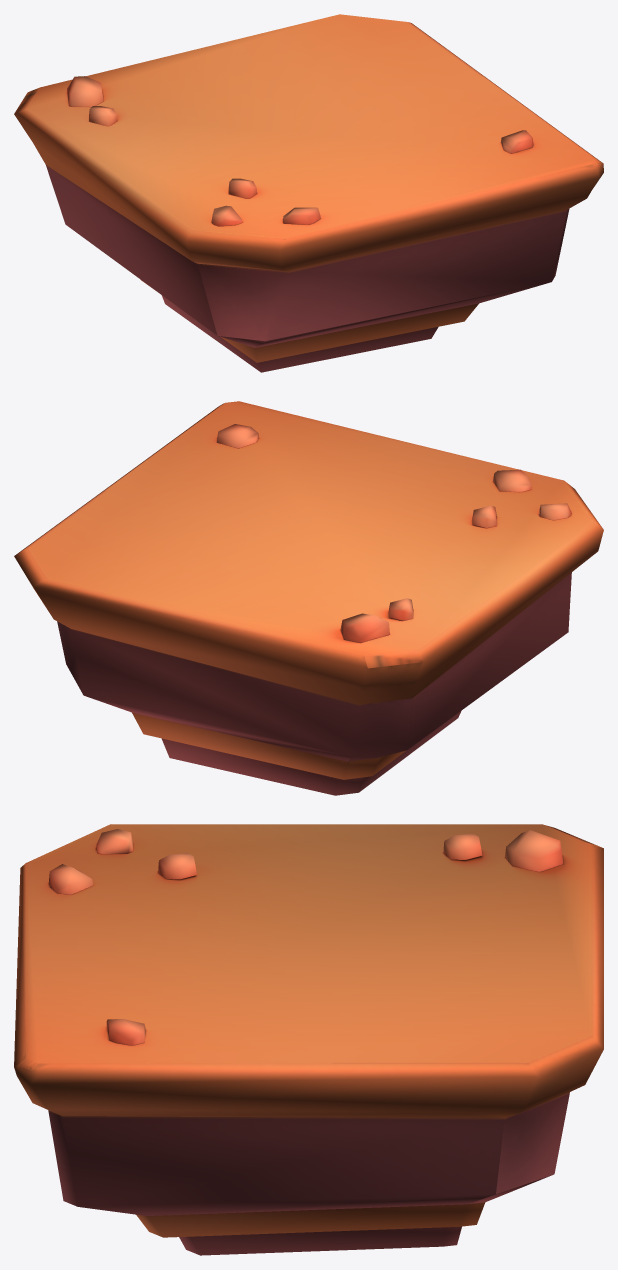
File: platform.glb
The picture shows the model from 3 angles, top to bottom: view 1: azimuth 30°, elevation 25°; view 2: azimuth 150°, elevation 25°; view 3: azimuth 270°, elevation 25°; orthographic projection. The views are drawn at different scales.
Parts seen in each view (by area): view 1: Platform; view 2: Platform; view 3: Platform.
Boxes of the visible parts, x1,y1,x2,y2 form: Platform: (14, 14, 603, 372); Platform: (14, 401, 603, 795); Platform: (14, 824, 603, 1255).
Size of what is drawn, in the model's own units: 6.12 by 3.18 by 6.12.
Materials: 3 (3 with a texture image).
